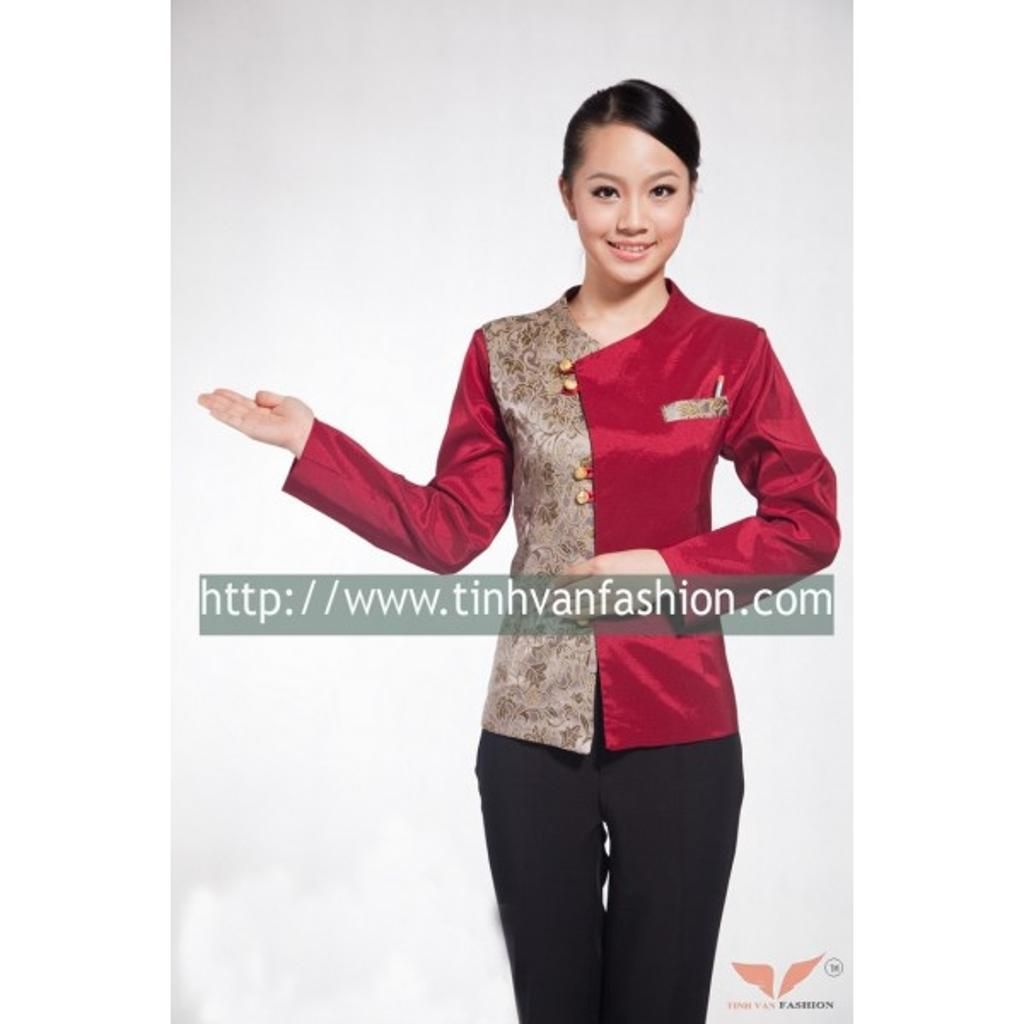face: (570, 122, 690, 290)
